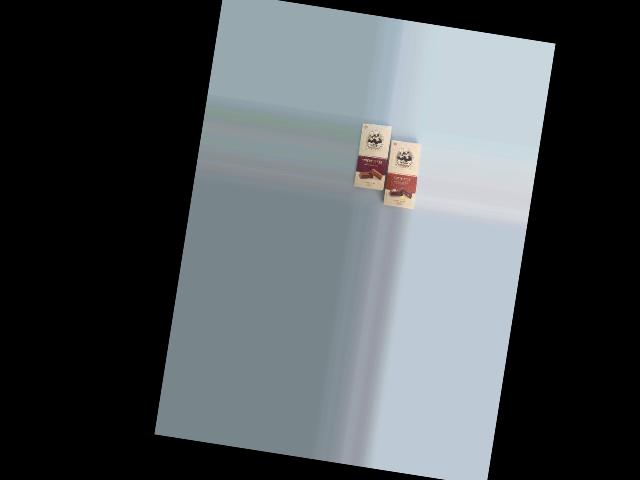chocolate: (375, 135, 425, 211)
